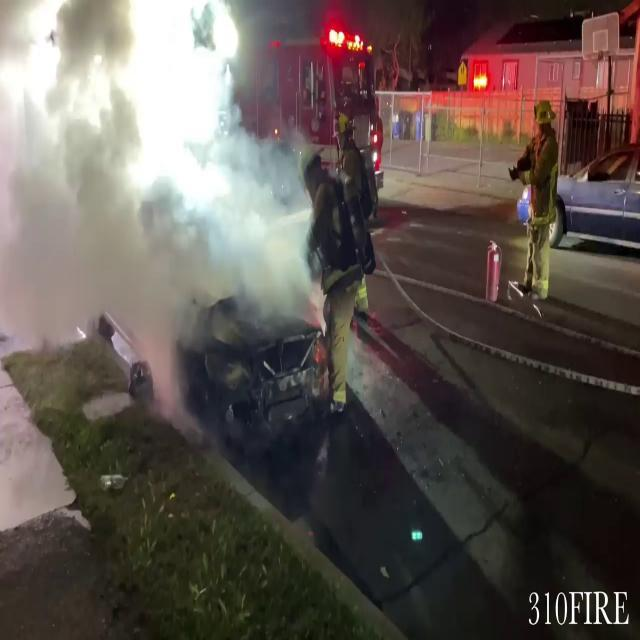Smoke: (0, 0, 320, 359)
